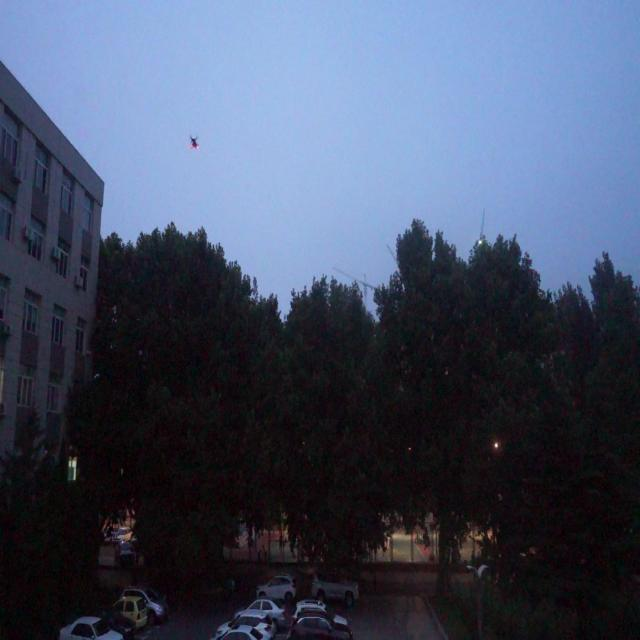UAV: (190, 134, 199, 150)
